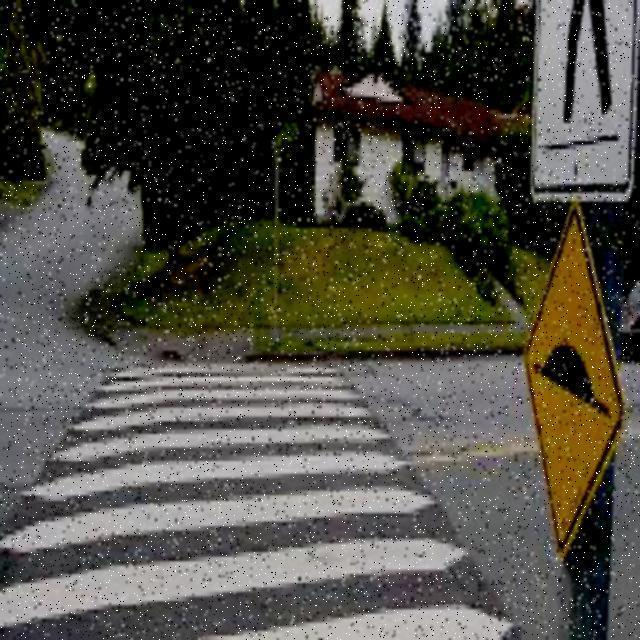crosswalk: (7, 364, 514, 640)
